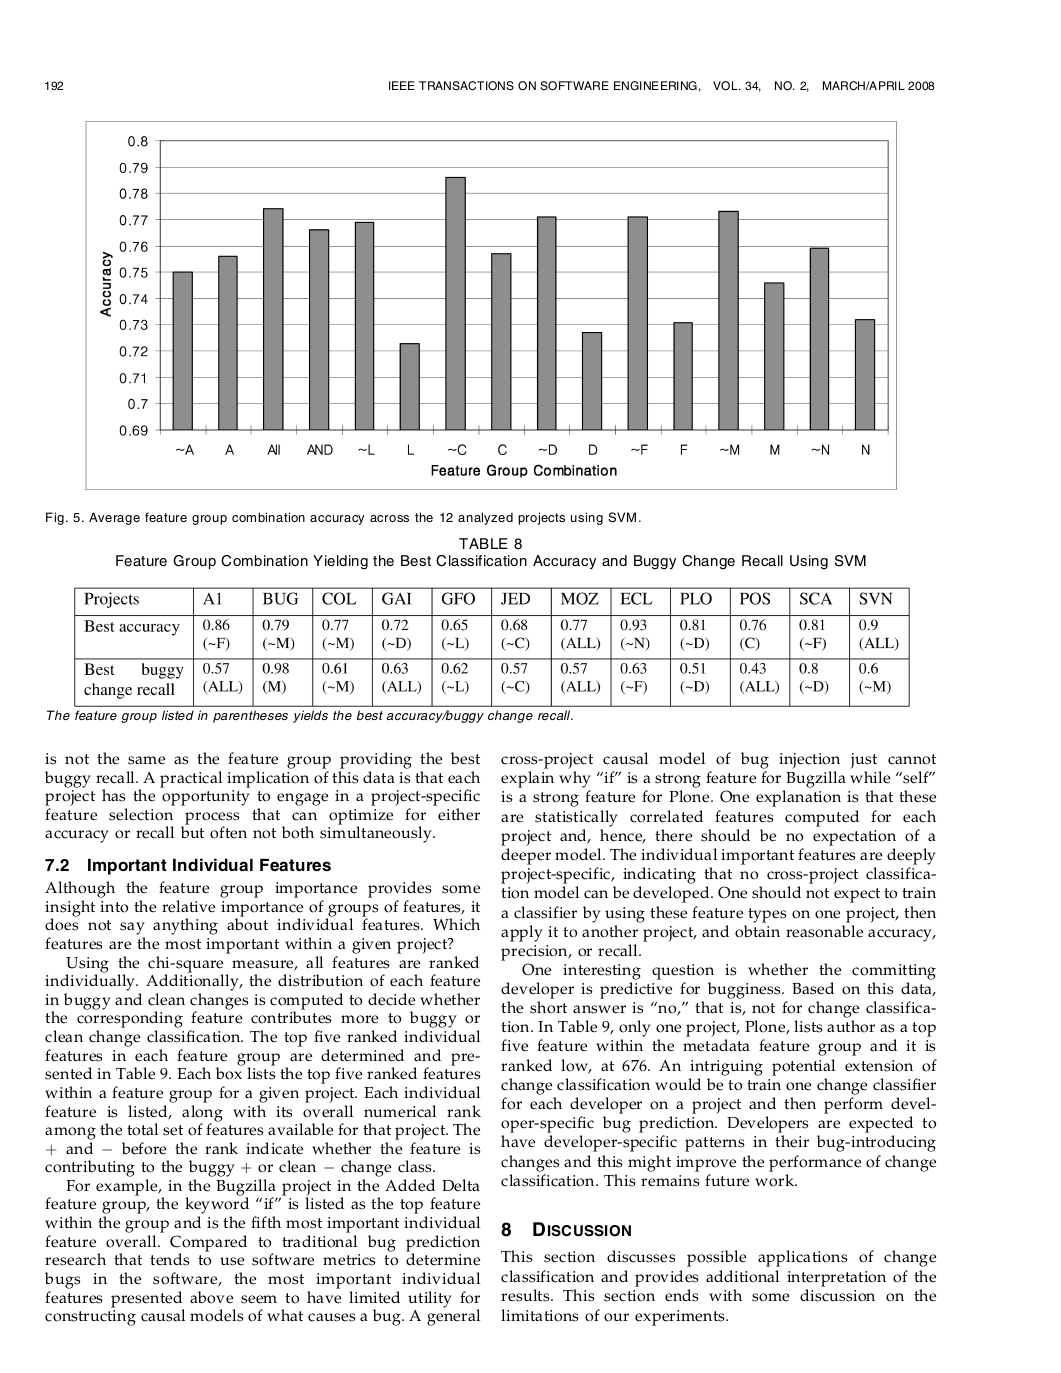Table: (74, 586, 909, 707)
figure: (85, 120, 896, 490)
